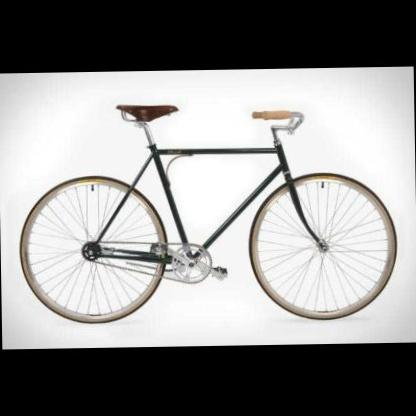Bicycle: (9, 78, 405, 332)
